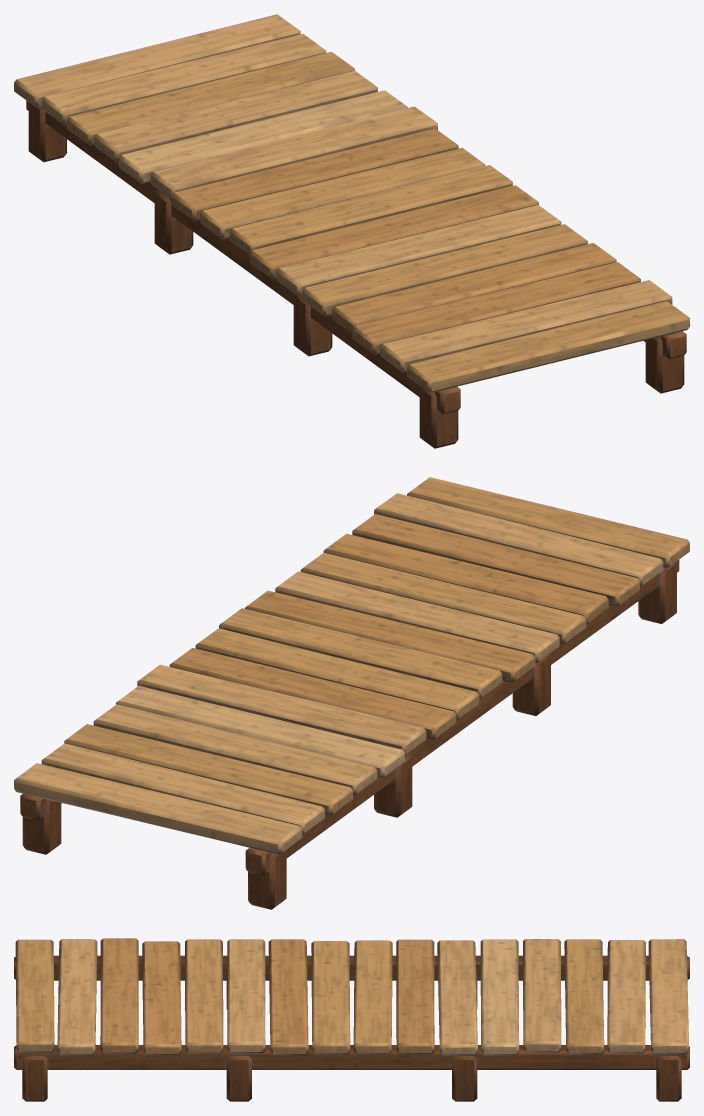
Rendered from Stage_Ocean_Boardwalk.glb.
3 renders of one model, top to bottom at view 1: azimuth 30°, elevation 25°; view 2: azimuth 150°, elevation 25°; view 3: azimuth 270°, elevation 25°, orthographic. The views are drawn at different scales.
Visible parts, largest first — view 1: Stage_Ocean_Boardwalk; view 2: Stage_Ocean_Boardwalk; view 3: Stage_Ocean_Boardwalk.
Part boxes in pixels (box(x1,y1,x2,y2)): Stage_Ocean_Boardwalk: box(14, 14, 689, 448); Stage_Ocean_Boardwalk: box(14, 477, 689, 909); Stage_Ocean_Boardwalk: box(14, 938, 689, 1101).
Size of the model in its own units: 6.08 by 1.62 by 16.
1 material, 1 textured.
